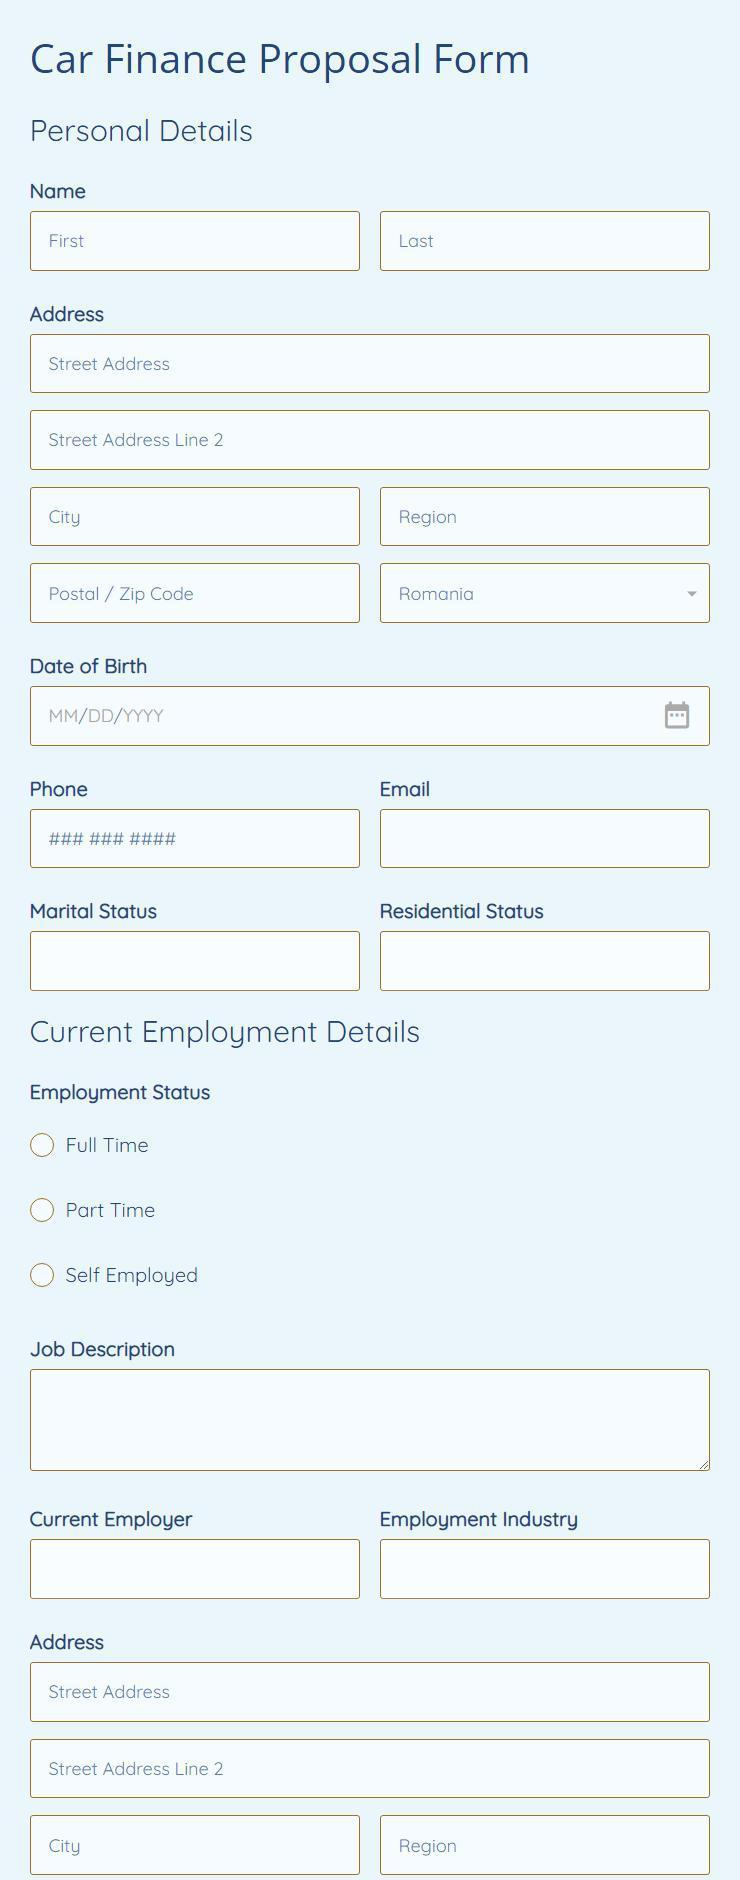dropdown: (380, 564, 711, 623)
input: (31, 335, 711, 394), (34, 411, 711, 471), (30, 687, 710, 746), (31, 1663, 712, 1721), (32, 1739, 712, 1796), (31, 211, 363, 273), (380, 211, 712, 273), (380, 1539, 712, 1599), (31, 1539, 362, 1599), (383, 932, 712, 992), (32, 1816, 361, 1876), (383, 487, 710, 547), (31, 933, 362, 992), (381, 1816, 710, 1875), (32, 565, 361, 623), (32, 811, 362, 868), (34, 488, 361, 546), (380, 812, 712, 867)
label: (381, 1506, 580, 1531), (30, 1080, 213, 1105), (28, 1508, 195, 1531), (68, 1261, 199, 1290), (31, 1338, 180, 1363), (379, 899, 547, 921), (28, 655, 151, 677), (28, 900, 160, 921), (65, 1197, 160, 1222), (62, 1133, 150, 1156), (28, 177, 89, 204), (30, 305, 107, 325), (28, 1634, 110, 1652), (377, 778, 432, 805), (31, 778, 90, 800)
radio: (30, 1263, 58, 1291), (31, 1132, 58, 1161), (30, 1198, 58, 1224)
